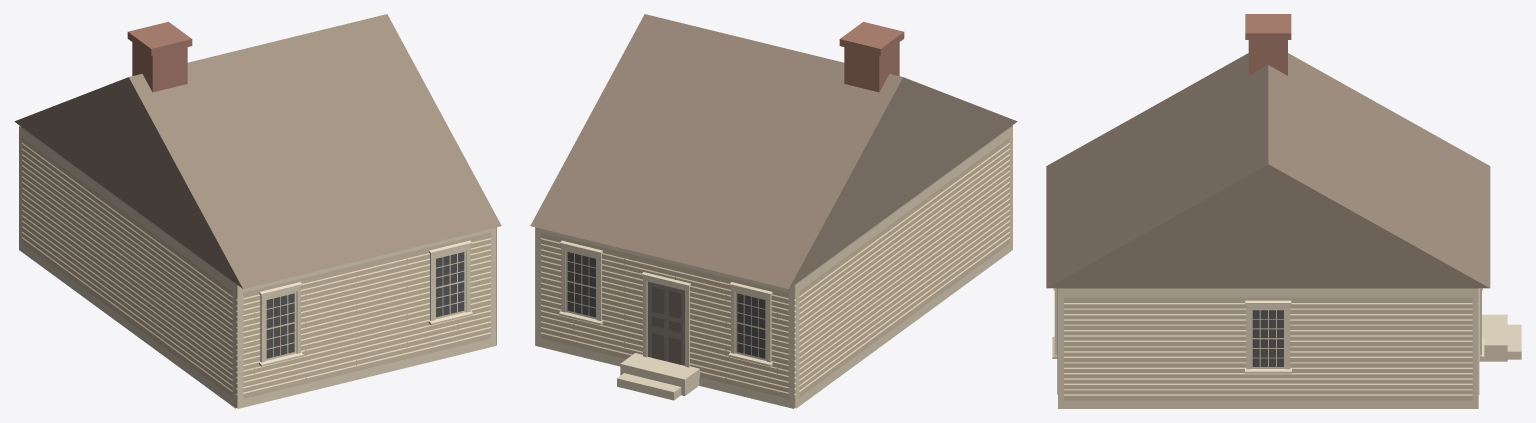
Rendered from recon_1835_south_d5_011__inferred_1835.glb.
3 renders of one model, left to right at view 1: azimuth 30°, elevation 25°; view 2: azimuth 150°, elevation 25°; view 3: azimuth 270°, elevation 25°, orthographic. The views are drawn at different scales.
Parts seen in each view (by area): view 1: recon_1835_south_d5_011__inferred_1835; view 2: recon_1835_south_d5_011__inferred_1835; view 3: recon_1835_south_d5_011__inferred_1835.
Part boxes in pixels (bbox=[...]): recon_1835_south_d5_011__inferred_1835: bbox=[14, 14, 501, 408]; recon_1835_south_d5_011__inferred_1835: bbox=[530, 14, 1017, 408]; recon_1835_south_d5_011__inferred_1835: bbox=[1046, 14, 1521, 408].
Size of the model in its own units: 6.35 by 6.55 by 10.18.
